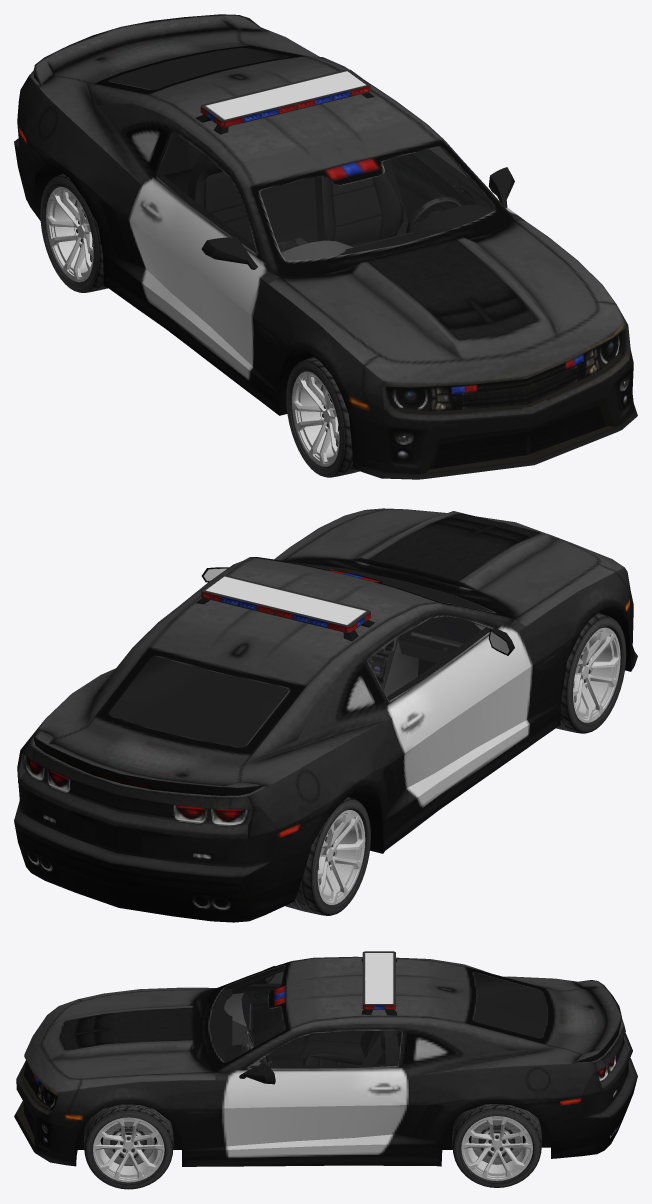
File: PoliceCar_3.FBX
3 views of the same model, one above another, from view 1: azimuth 30°, elevation 25°; view 2: azimuth 150°, elevation 25°; view 3: azimuth 270°, elevation 25° (orthographic). The views are drawn at different scales.
Parts seen in each view (by area): view 1: Body, Door_R, Wheel_FR, Wheel_BR, Door_L; view 2: Body, Door_R, Wheel_BR, Wheel_FR; view 3: Body, Door_L, Wheel_FL, Wheel_BL, Door_R.
Boxes of the visible parts, x1,y1,x2,y2 form: Body: [14, 14, 637, 479]; Door_R: [129, 127, 265, 379]; Wheel_FR: [286, 357, 359, 477]; Wheel_BR: [40, 174, 107, 292]; Door_L: [390, 147, 516, 221]; Body: [14, 508, 637, 922]; Door_R: [362, 613, 531, 805]; Wheel_BR: [285, 797, 370, 915]; Wheel_FR: [556, 613, 626, 733]; Body: [14, 951, 637, 1166]; Door_L: [223, 1028, 408, 1157]; Wheel_FL: [83, 1104, 173, 1189]; Wheel_BL: [452, 1104, 541, 1187]; Door_R: [232, 966, 398, 1060].
Size of the model in its own units: 59.39 by 40.41 by 141.
